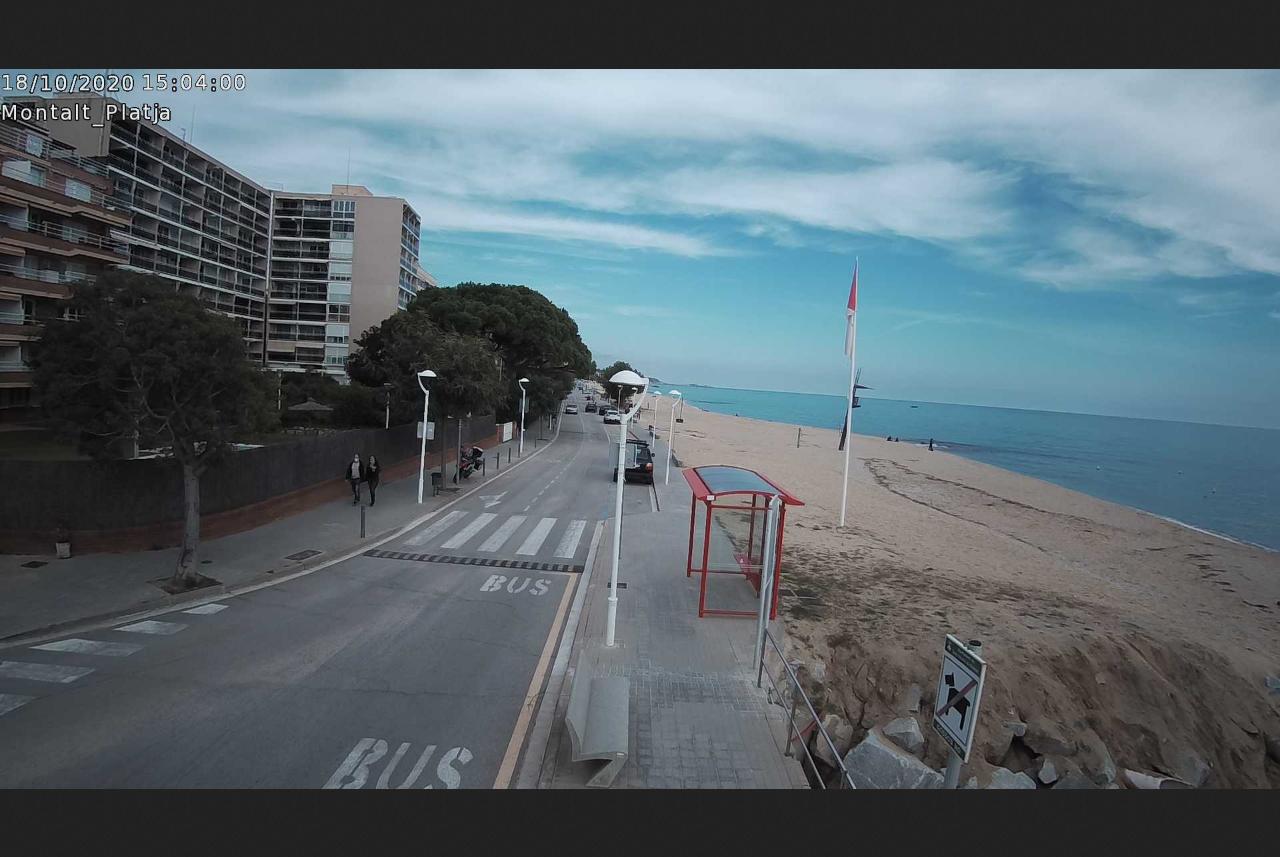no: (843, 263, 858, 359)
